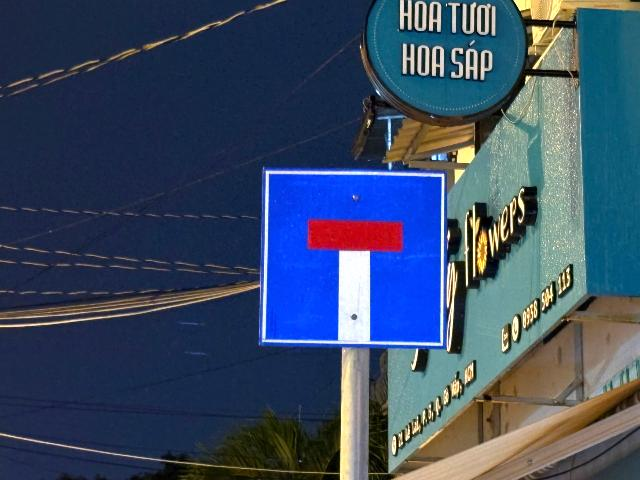duong-cut: (261, 167, 446, 349)
